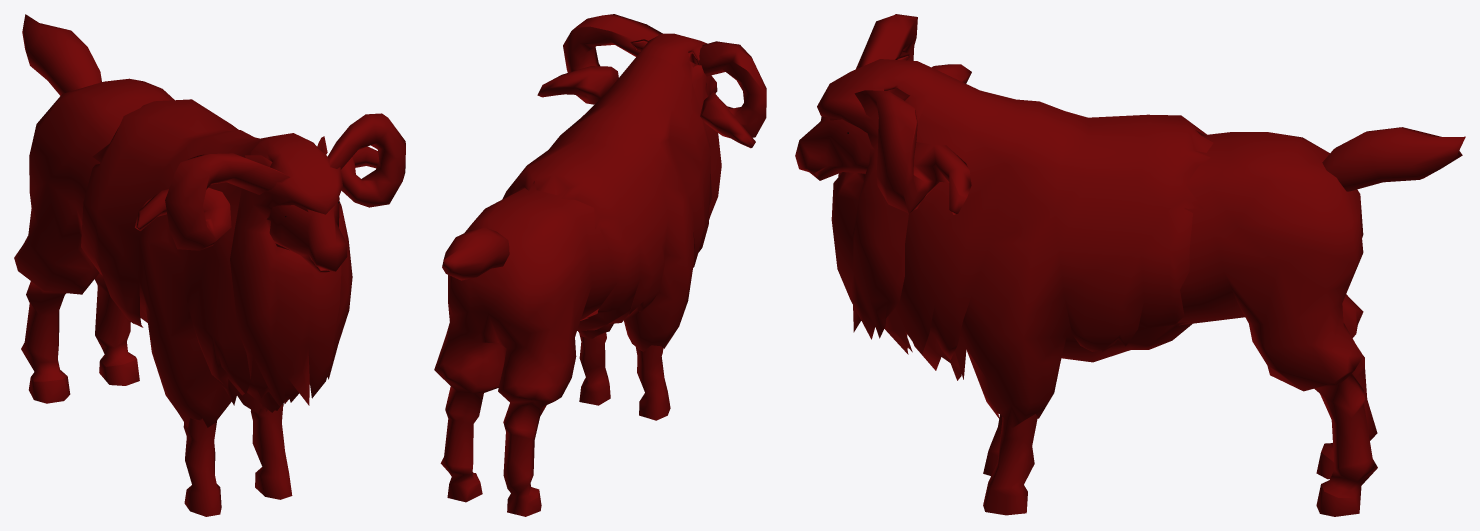
The model's file is Fld0BR_c901_Body_LOD1.fbx.
3 views of the same model, side by side, from view 1: azimuth 30°, elevation 25°; view 2: azimuth 150°, elevation 25°; view 3: azimuth 270°, elevation 25° (orthographic). The views are drawn at different scales.
Visible parts, largest first — view 1: Fld0BR_c901_Body_LOD1; view 2: Fld0BR_c901_Body_LOD1; view 3: Fld0BR_c901_Body_LOD1.
Boxes of the visible parts, x1,y1,x2,y2 form: Fld0BR_c901_Body_LOD1: (14, 14, 405, 516); Fld0BR_c901_Body_LOD1: (434, 14, 766, 516); Fld0BR_c901_Body_LOD1: (795, 14, 1465, 516).
Size of the model in its own units: 0.8814 by 1.33 by 1.87.
